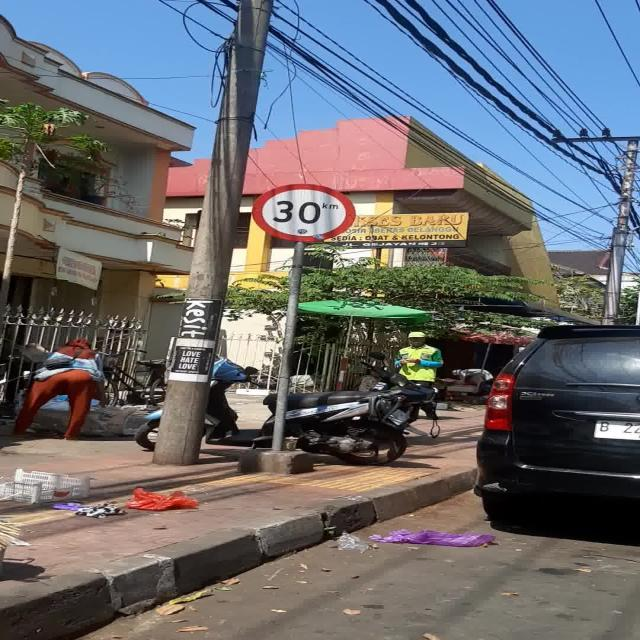Kecepatan Maks. 30 km: (252, 184, 356, 242)
